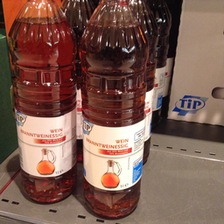vinegar: (78, 1, 150, 220), (8, 1, 81, 205)
